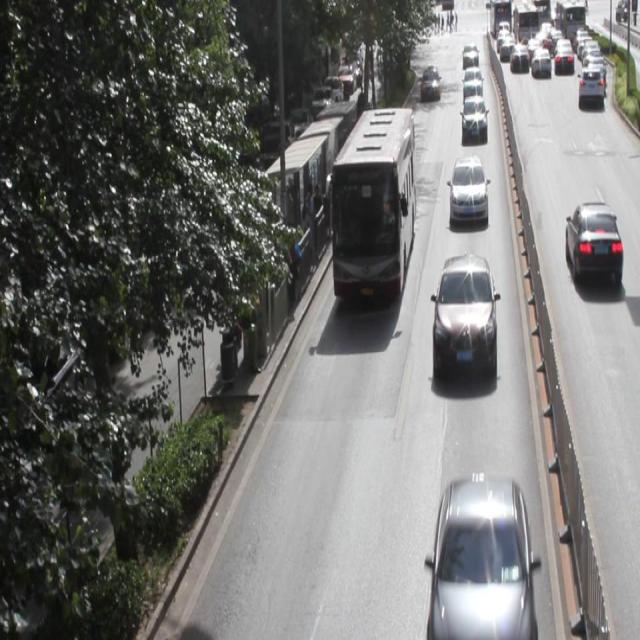car: (430, 474, 533, 640), (432, 256, 497, 376), (564, 201, 622, 286), (448, 158, 487, 222), (461, 97, 486, 139)
van: (330, 108, 415, 300)
